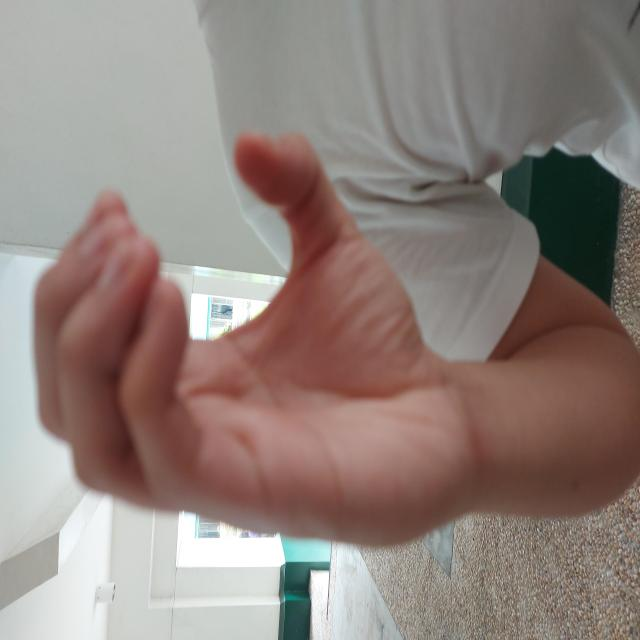C: (88, 30, 515, 482)
